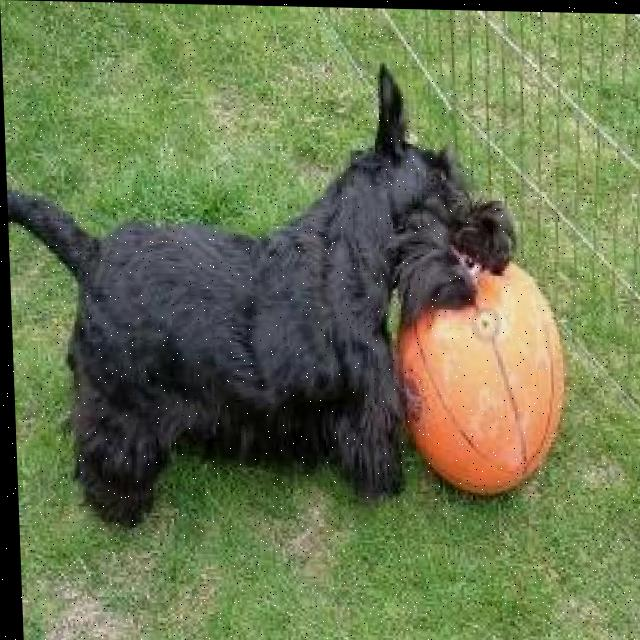Basketball: (393, 258, 568, 499)
